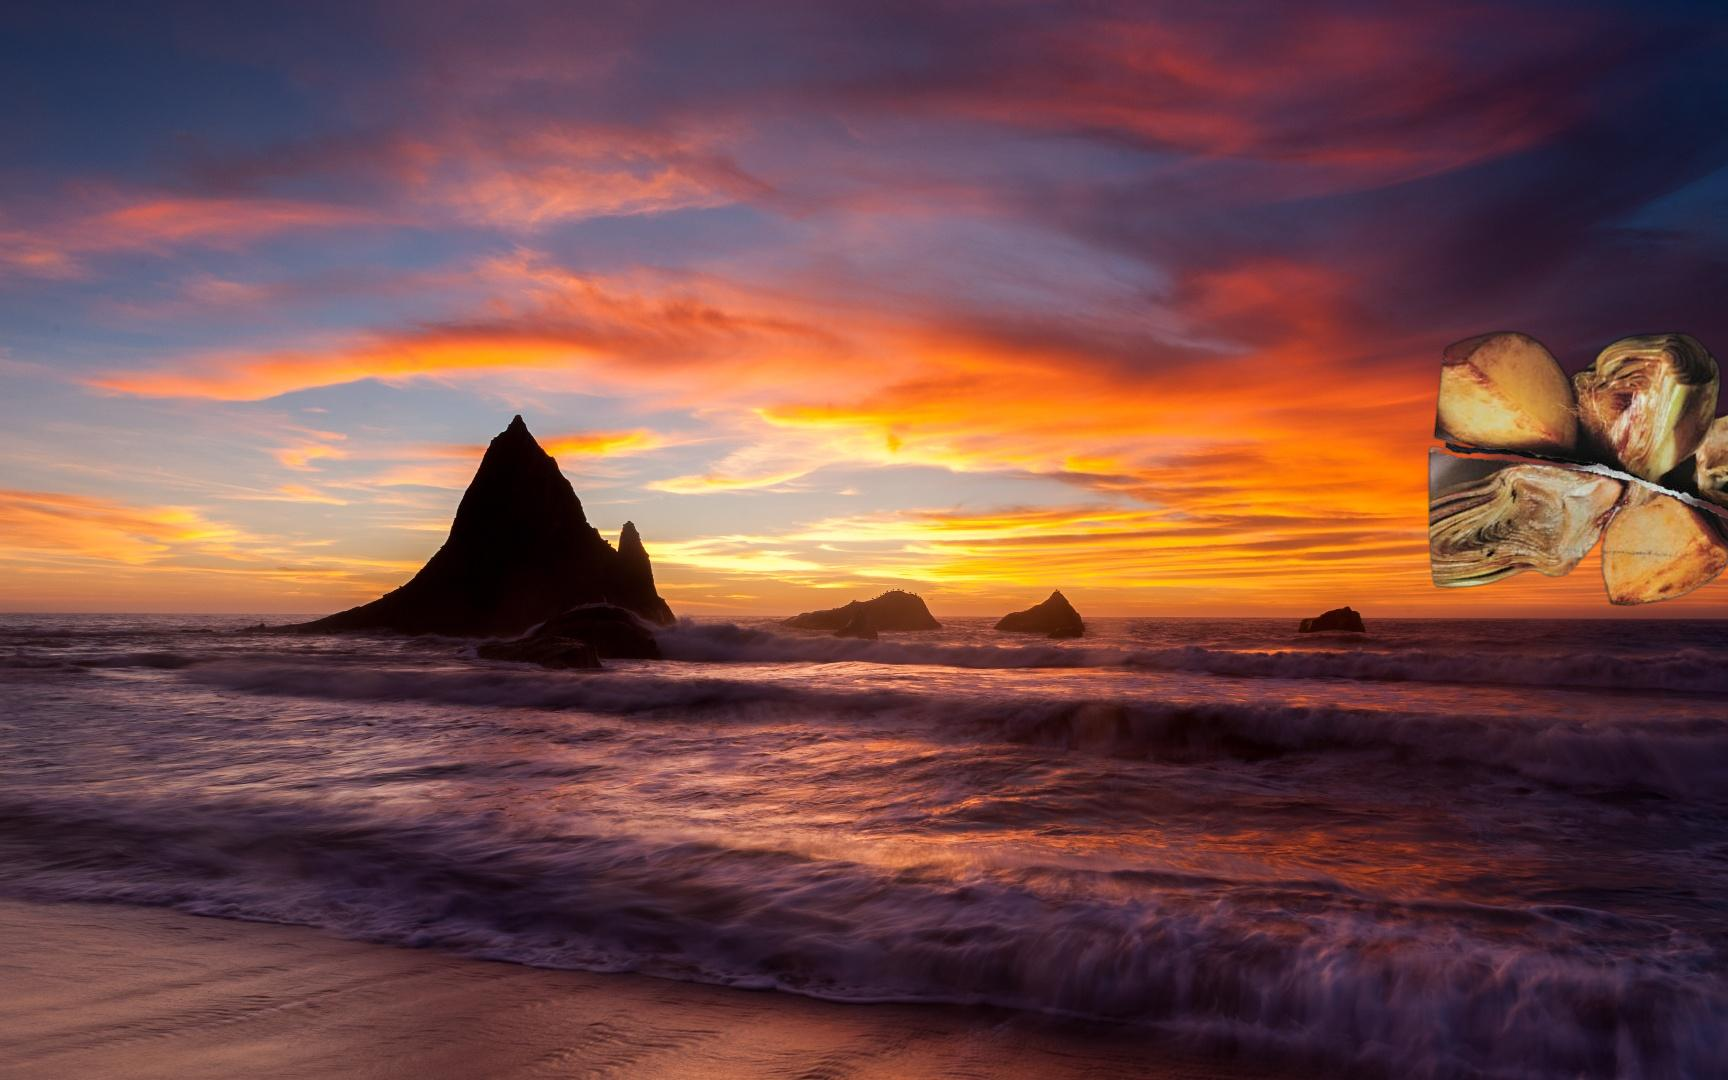paper: (1424, 328, 1728, 608)
